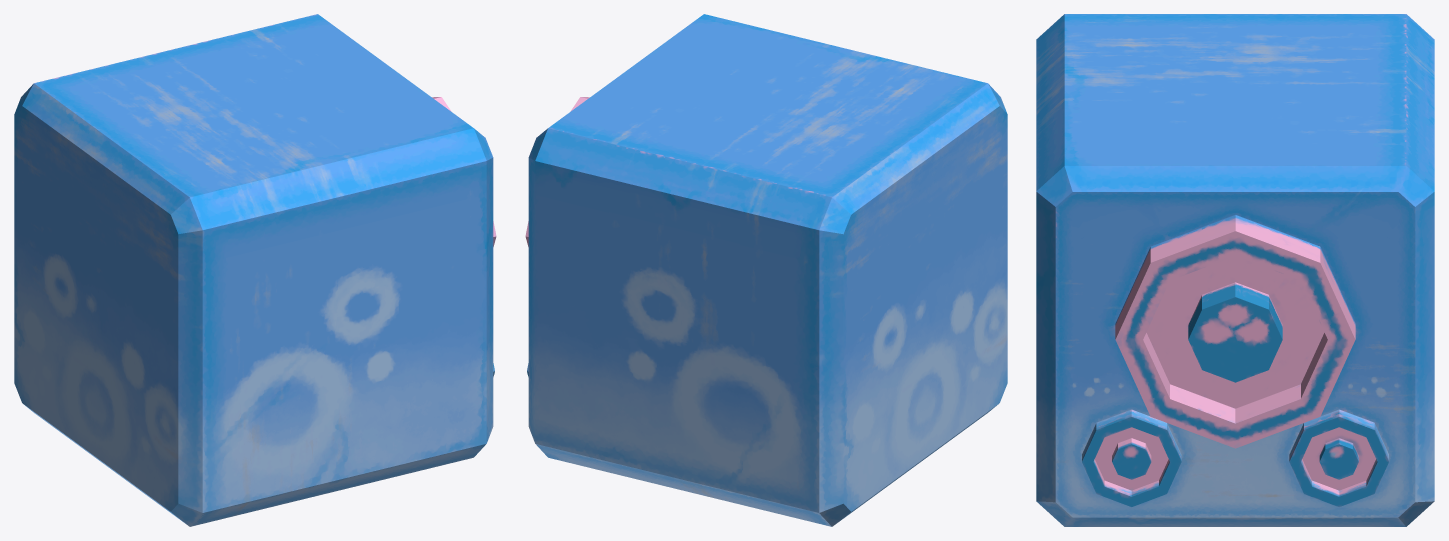
The model's file is worm2_totem_head.fbx.
The picture shows the model from 3 angles, left to right: view 1: azimuth 30°, elevation 25°; view 2: azimuth 150°, elevation 25°; view 3: azimuth 270°, elevation 25°; orthographic projection. The views are drawn at different scales.
Visible parts, largest first — view 1: Cube.005; view 2: Cube.005; view 3: Cube.005.
Boxes of the visible parts, x1=… form: Cube.005: x1=14, y1=14, x2=496, y2=526; Cube.005: x1=525, y1=14, x2=1007, y2=526; Cube.005: x1=1036, y1=14, x2=1434, y2=526.
Bounding box in the file's own units: 110 × 100 × 100.
1 material, 1 textured.
